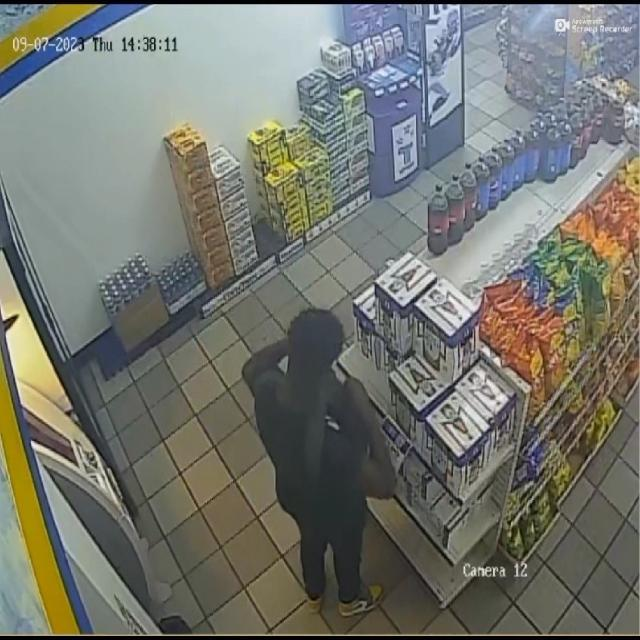Normal: (232, 284, 405, 634)
